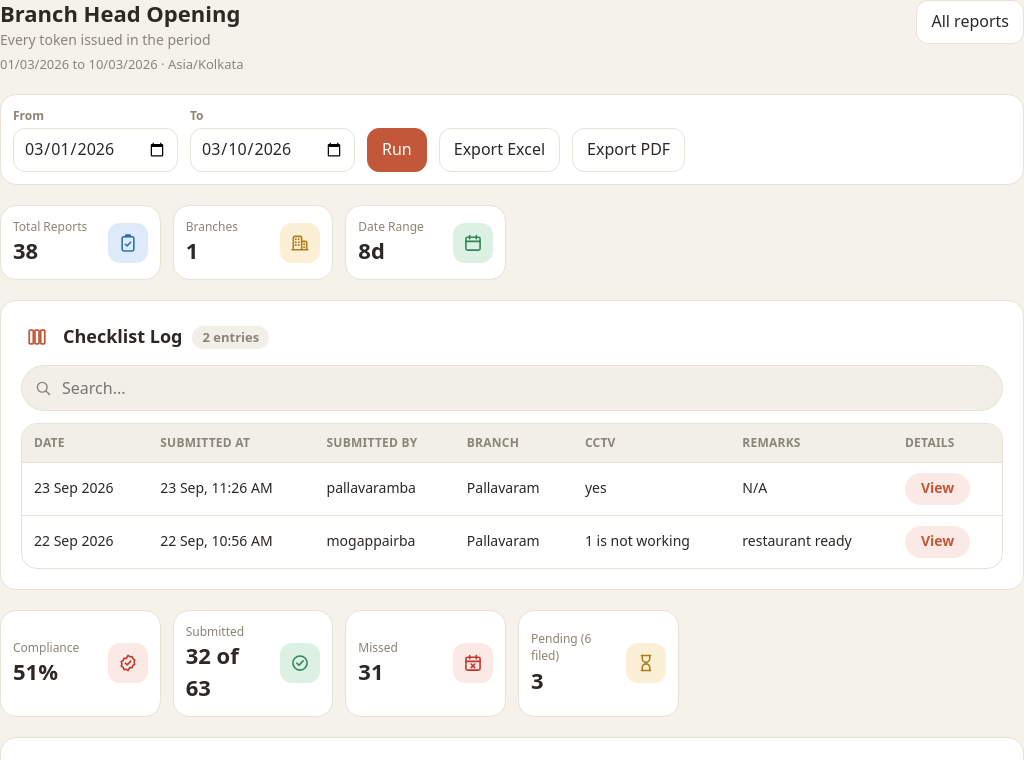
Test: tasks.opening report screen › RF-67. three cards, a searchable log with a View button per row
Expected: the heading "Checklist Log" is shown, [63,326,182,348]
Expected: the column heading "Details" is shown, [893,424,1002,462]
In the search field with placeholder "Search...": (525, 388) [60,366,990,410], type "restaurant ready"
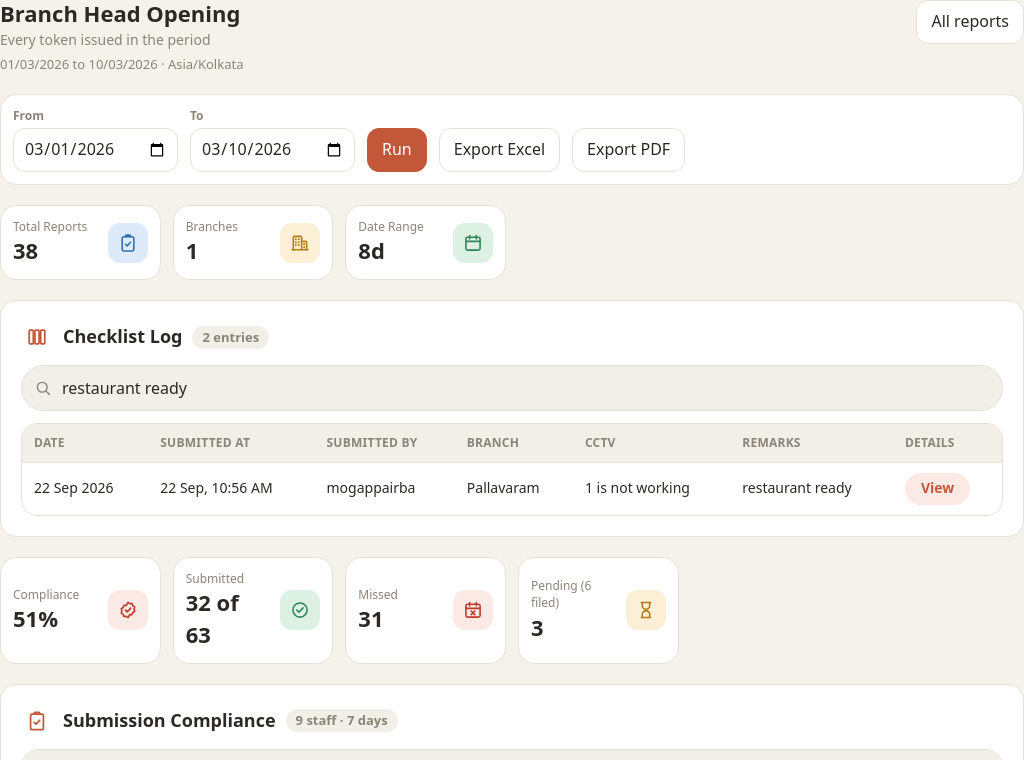
Expected: the number of buttons "View " is 1, [905,473,970,505]
